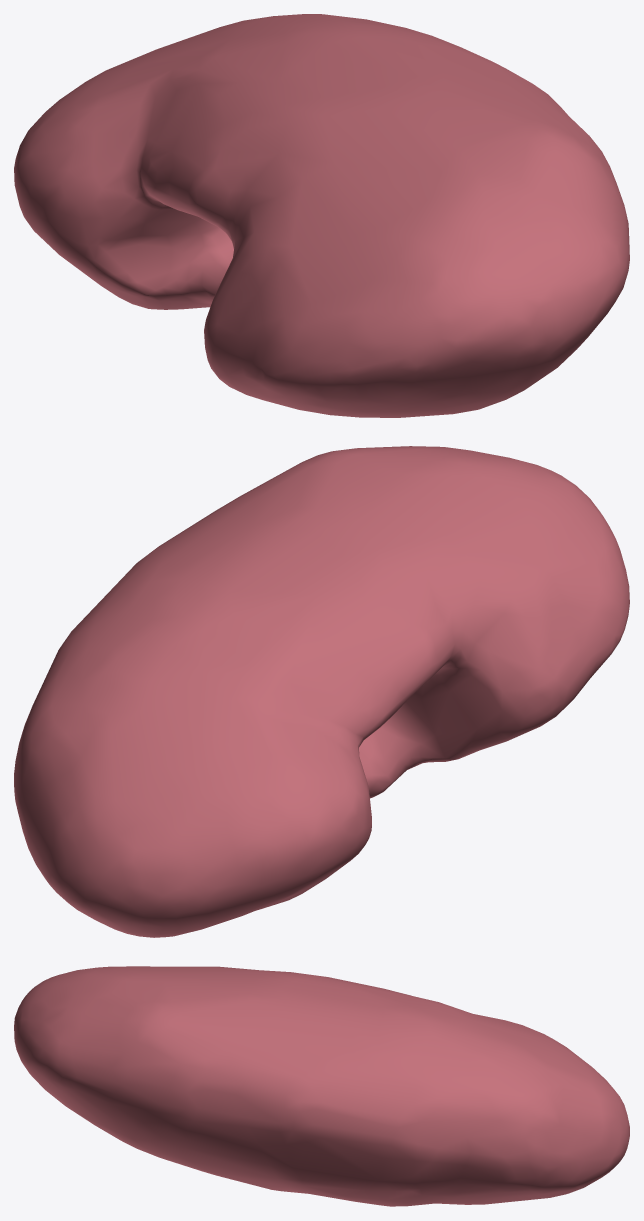
The picture shows the model from 3 angles, top to bottom: view 1: azimuth 30°, elevation 25°; view 2: azimuth 150°, elevation 25°; view 3: azimuth 270°, elevation 25°; orthographic projection. The views are drawn at different scales.
Visible parts, largest first — view 1: 左侧肾; view 2: 左侧肾; view 3: 左侧肾.
Part boxes in pixels (<box>): 左侧肾: <box>14,14,629,417</box>; 左侧肾: <box>14,446,629,937</box>; 左侧肾: <box>14,966,629,1206</box>.
Size of the model in its own units: 0.0848 by 0.0598 by 0.1561.
